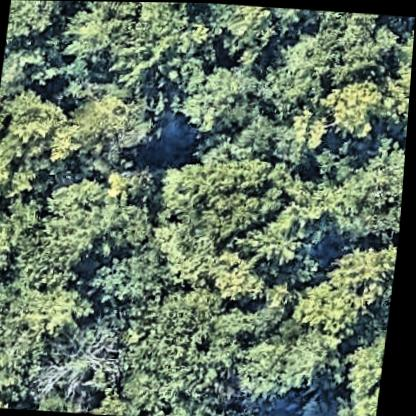tree-top: (126, 281, 256, 412), (255, 6, 394, 114), (308, 132, 409, 252), (174, 148, 291, 241), (296, 238, 400, 338), (65, 1, 201, 76), (51, 92, 156, 174), (167, 57, 266, 142), (40, 321, 138, 401), (54, 197, 159, 261), (203, 3, 301, 69), (239, 210, 323, 278), (321, 68, 394, 146), (13, 277, 98, 335), (279, 327, 354, 392), (97, 248, 180, 305), (341, 324, 391, 416), (383, 16, 415, 136), (0, 324, 45, 407), (0, 41, 56, 94), (7, 0, 66, 49), (0, 206, 23, 283)
